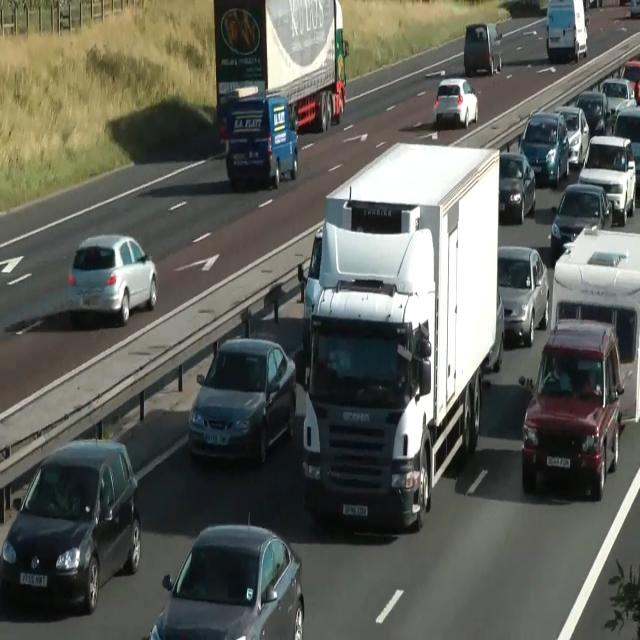bus: (148, 517, 304, 639), (188, 336, 296, 466), (68, 233, 158, 326), (497, 245, 549, 347), (549, 182, 611, 260), (297, 223, 323, 357), (498, 151, 536, 224), (217, 85, 259, 146), (552, 105, 590, 167), (611, 106, 639, 190), (433, 77, 478, 129), (482, 286, 504, 372), (574, 90, 610, 136), (618, 58, 640, 105), (630, 0, 640, 17)
car: (550, 224, 640, 425)
jeep: (1, 436, 141, 614), (520, 318, 624, 500), (224, 92, 298, 190), (578, 133, 636, 225), (518, 110, 570, 187), (464, 21, 502, 76), (600, 77, 636, 119)
minibus: (299, 140, 502, 532), (213, 0, 348, 140), (546, 0, 588, 63)
